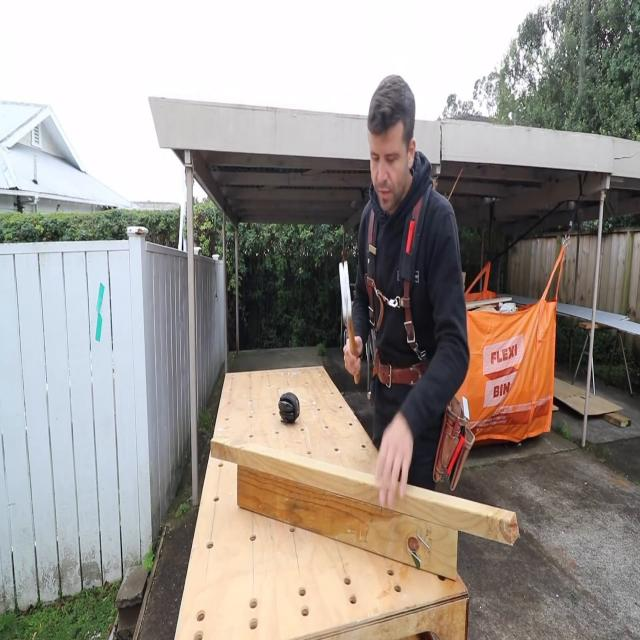hammer: (337, 255, 362, 391)
